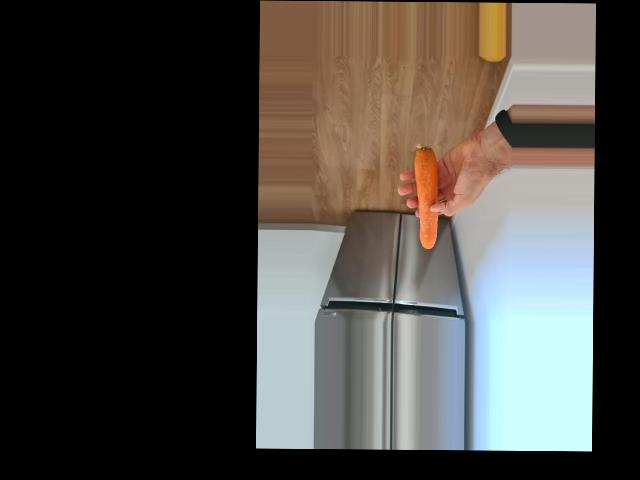carrot: (410, 145, 442, 248)
